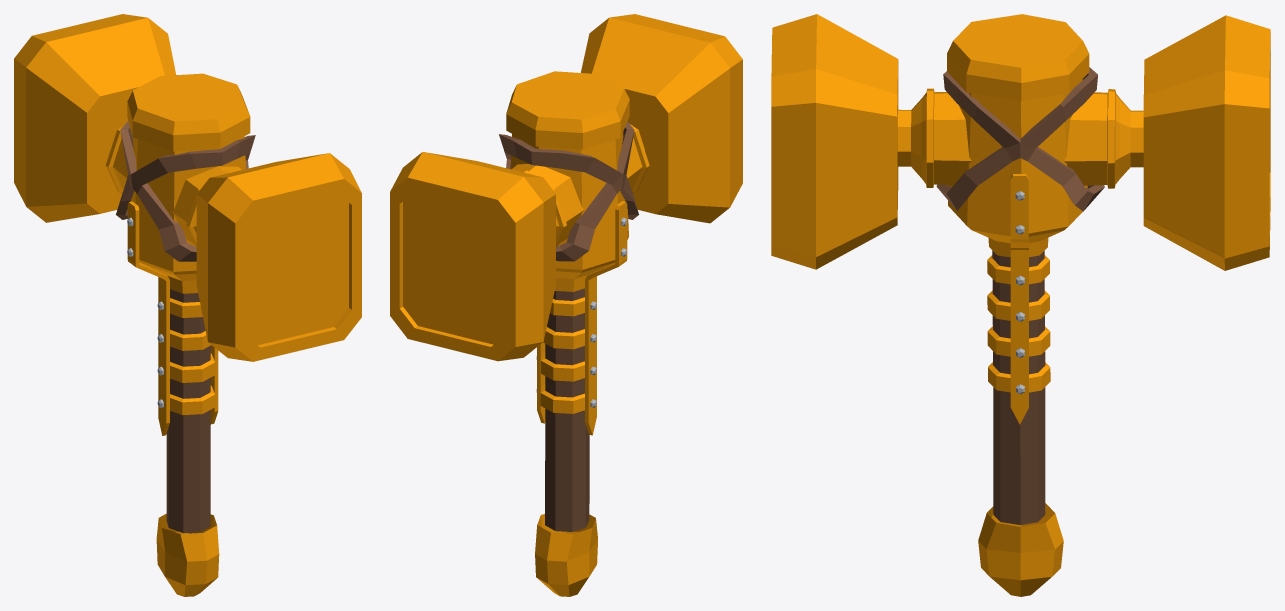
Rendered from SKILLhammerNoAnima.fbx.
The picture shows the model from 3 angles, left to right: view 1: azimuth 30°, elevation 25°; view 2: azimuth 150°, elevation 25°; view 3: azimuth 270°, elevation 25°; orthographic projection. The views are drawn at different scales.
Visible parts, largest first — view 1: Hammer_Double.000; view 2: Hammer_Double.000; view 3: Hammer_Double.000.
Boxes of the visible parts, box(x1,y1,x2,y2) form: Hammer_Double.000: box(14, 14, 361, 596); Hammer_Double.000: box(390, 14, 742, 596); Hammer_Double.000: box(771, 14, 1270, 596).
Size of the model in its own units: 72.14 by 238 by 196.
